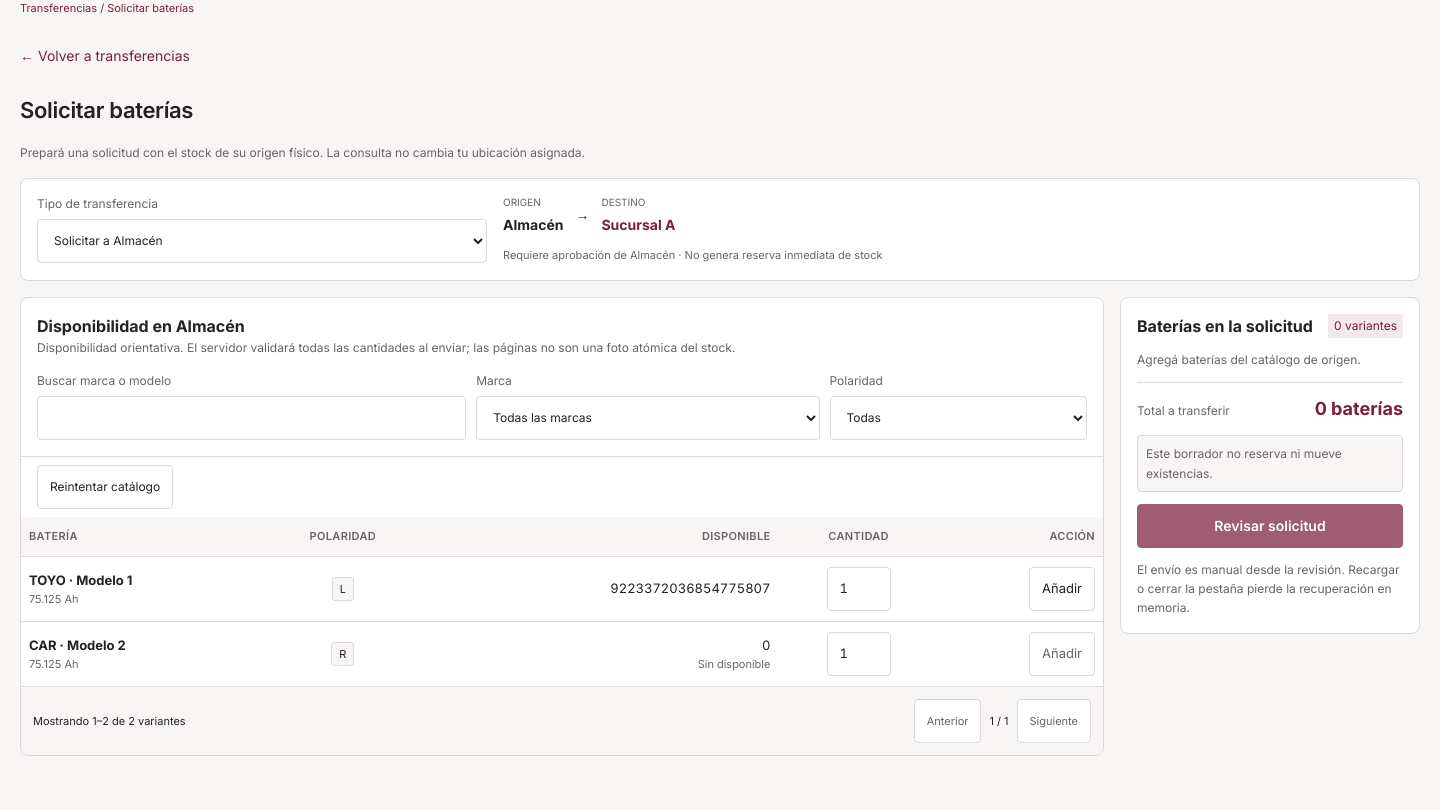
Test case: R04b2c2 explicit review › opens a real Pending review for requestOther without sending
Check: the button with aria-label "Añadir Modelo 1 L" is shown, box [1029,567,1095,611]
Select "Solicitar a Sucursal B" in the dropdown labelled "Tipo de transferencia". click: (262,241)
box: [37,219,487,263]
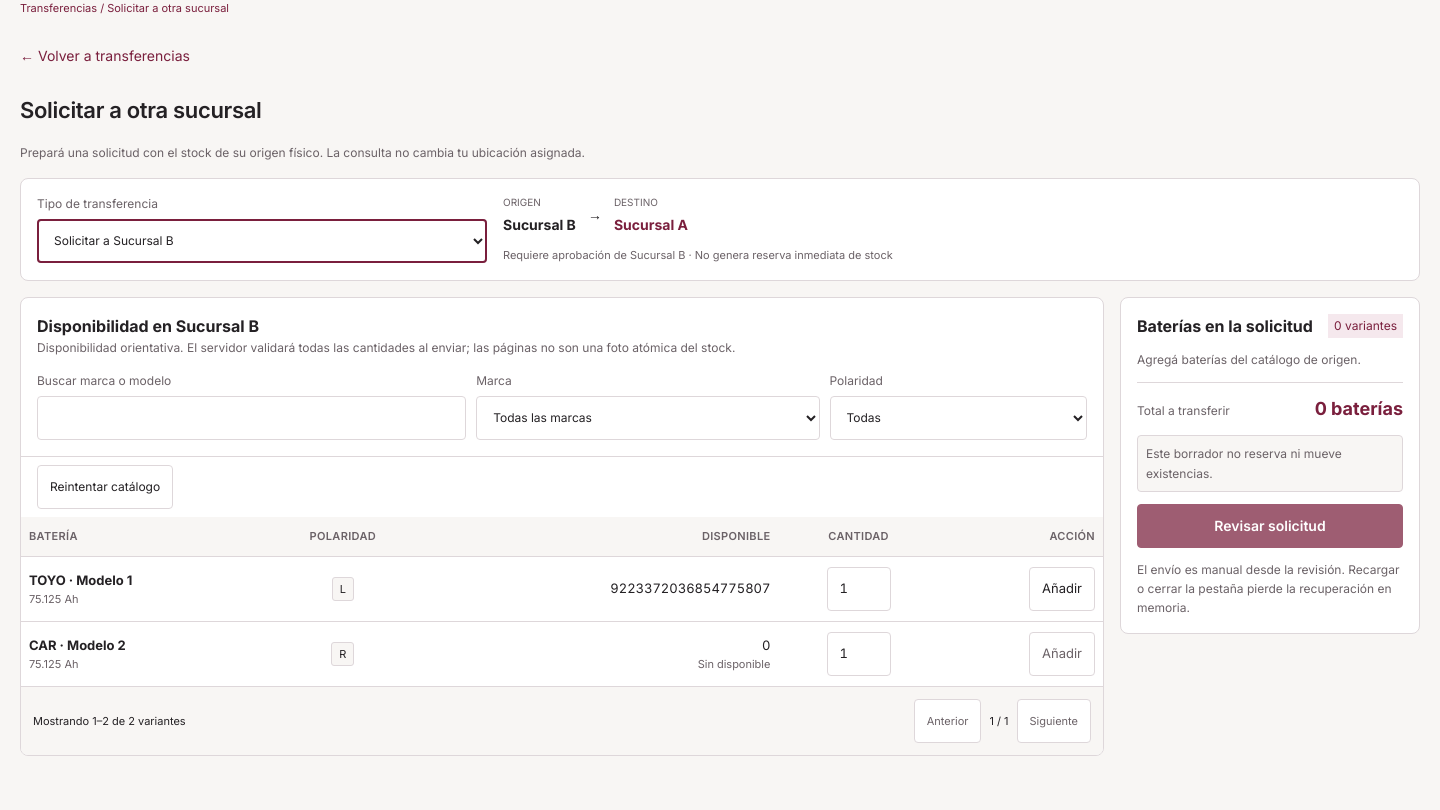
Click the button with aria-label "Añadir Modelo 1 L". click: (1062,589)
box: [1029,567,1095,611]
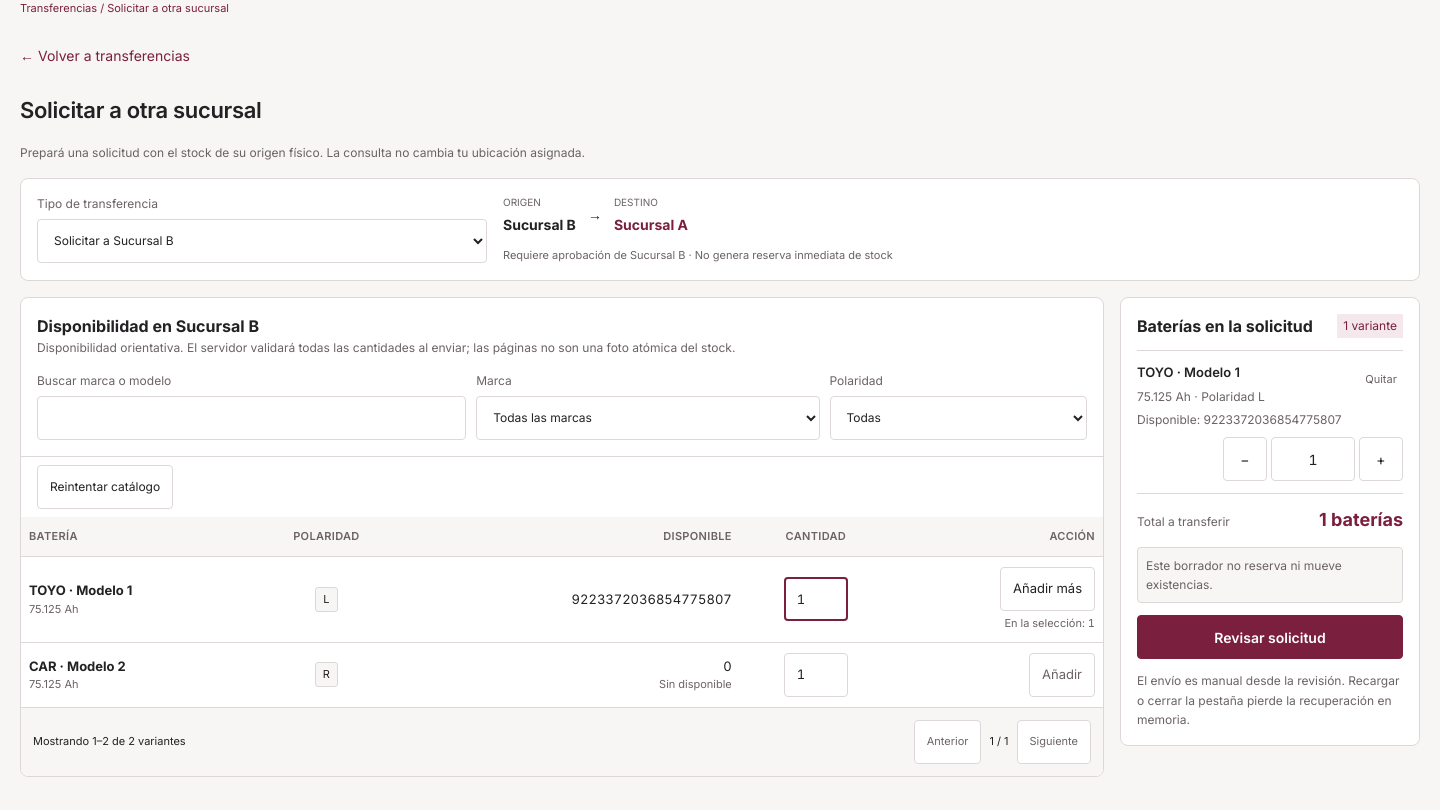
Click the button "Revisar solicitud". click: (1270,637)
box: [1137,615,1403,659]
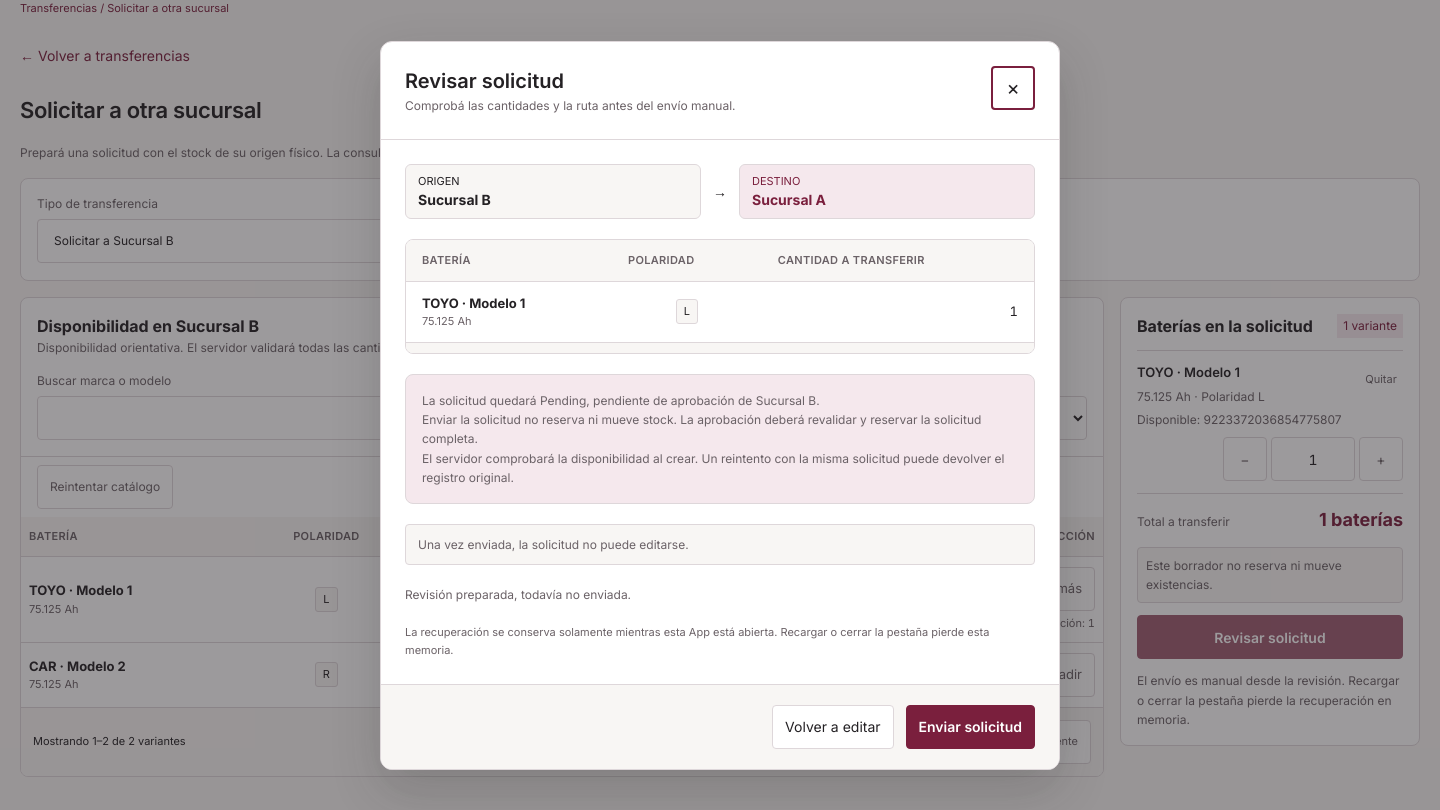
Check: the text "75.125 Ah" is shown, box [422,314,472,328]
Check: the text "no reserva ni mueve stock" is shown, box [422,412,981,446]
Check: the button "Enviar solicitud" is enabled, box [906,704,1035,748]
